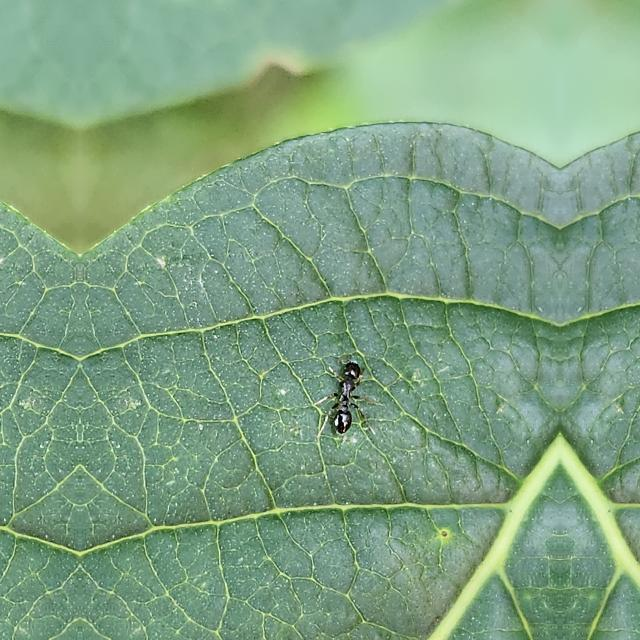Tetramorium: (315, 360, 375, 444)
